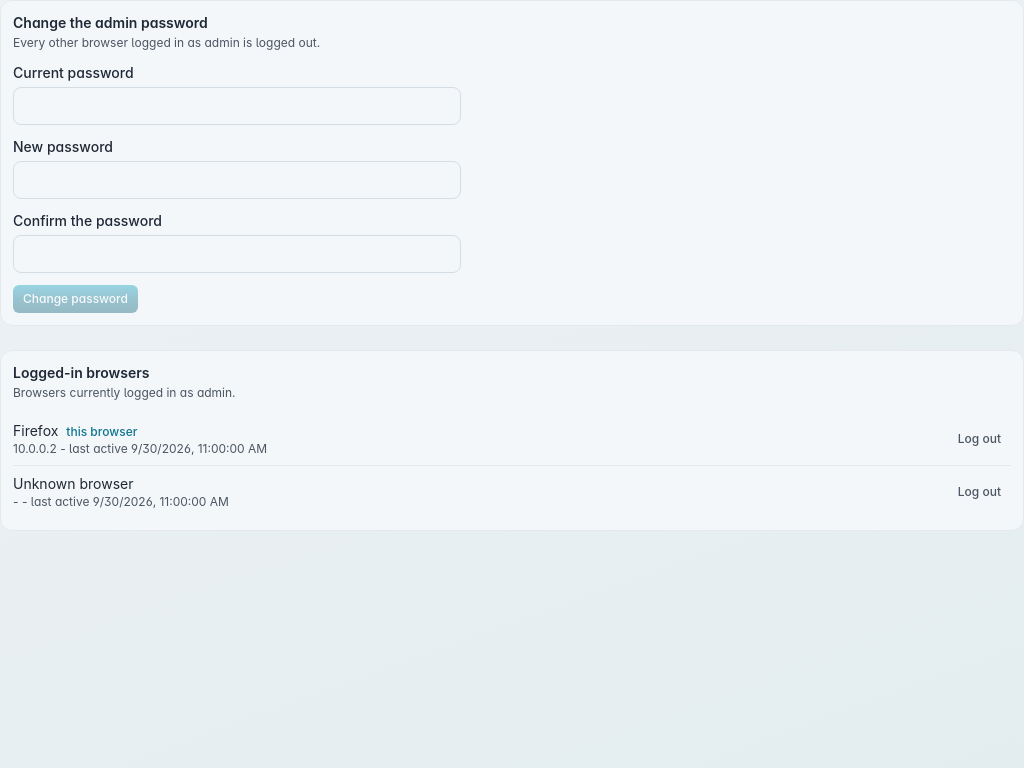
Test: AdminSecurityPanel › logs another browser out and reloads the list
Expected: the text "Unknown browser" is shown, [13,475,134,492]
Click the button "Log out" in the row of "Unknown browser". click: x=979, y=492
box: [948,478,1011,506]
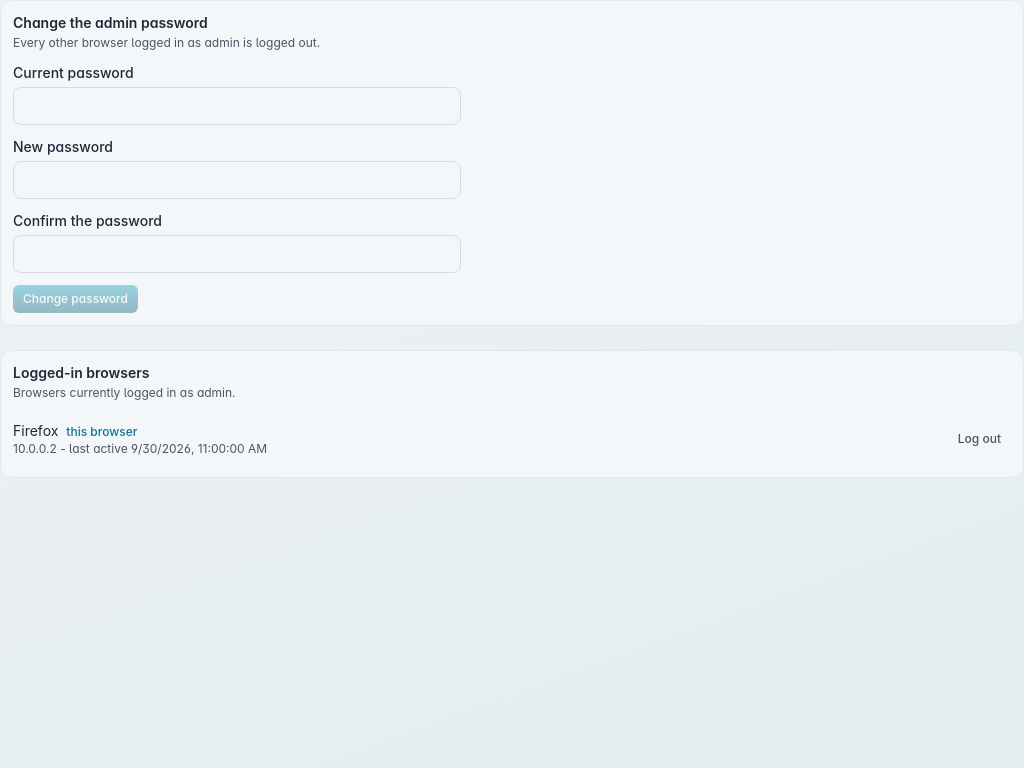
Now the text "Unknown browser" is gone
